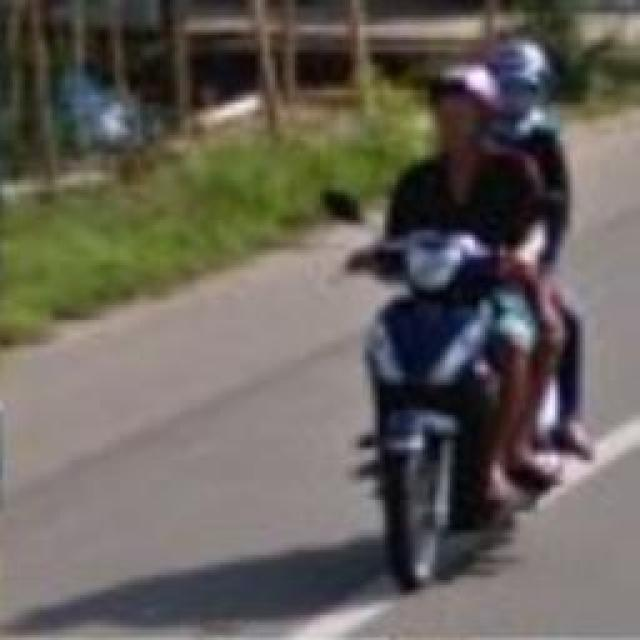motorbike: (323, 27, 603, 597)
